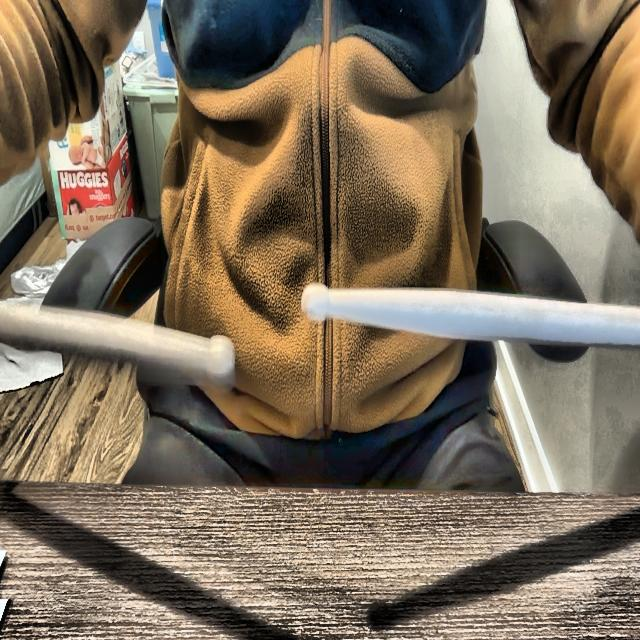Drumstick-Heads: (207, 327, 238, 386), (303, 280, 329, 328)
